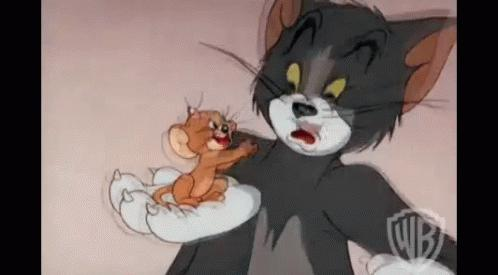jerry: (153, 92, 259, 218)
